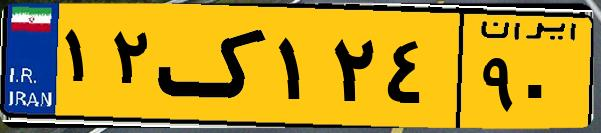0: (525, 38, 570, 115)
1: (270, 28, 330, 110), (57, 26, 110, 100)
2: (330, 28, 385, 110), (110, 28, 158, 98)
4: (385, 28, 445, 110)
9: (475, 38, 525, 113)
ک: (158, 12, 270, 120)
